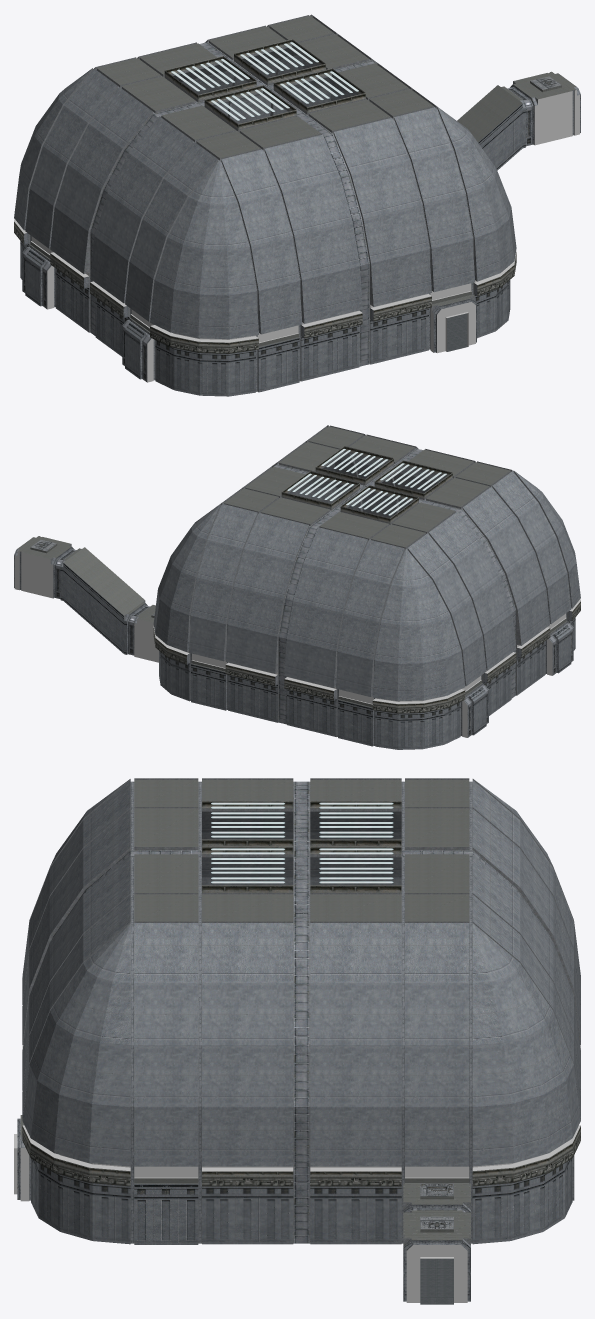
Rendered from poi_all_impl_bunker_warren_s01_r45_bigroom45_mesh_r45.fbx.
3 renders of one model, top to bottom at view 1: azimuth 30°, elevation 25°; view 2: azimuth 150°, elevation 25°; view 3: azimuth 270°, elevation 25°, orthographic. The views are drawn at different scales.
Parts seen in each view (by area): view 1: mesh_node; view 2: mesh_node; view 3: mesh_node.
Part boxes in pixels (bbox=[...]): mesh_node: bbox=[14, 14, 580, 396]; mesh_node: bbox=[14, 425, 580, 749]; mesh_node: bbox=[14, 778, 580, 1304].
Size of the model in its own units: 49.9 by 18.7 by 33.5.
